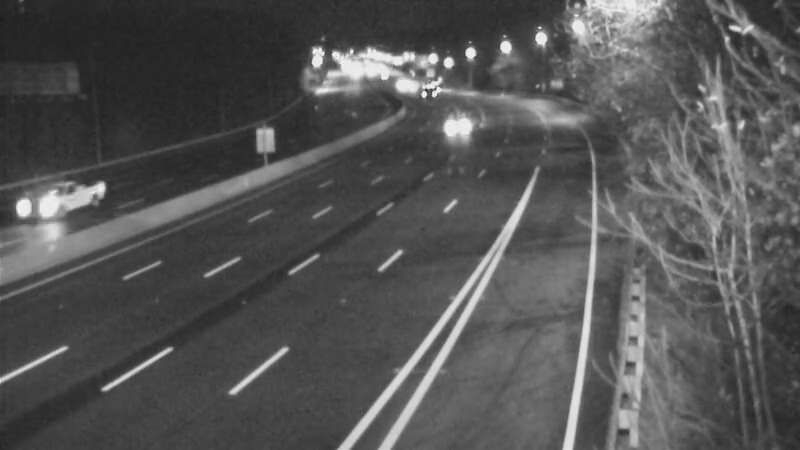vehicle: (14, 162, 94, 242), (403, 64, 453, 114), (437, 98, 487, 148)
